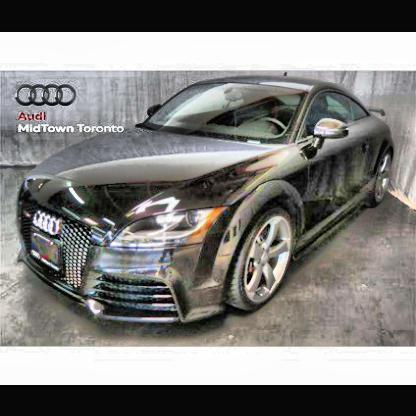Audi TTS Coupe 2012: (17, 72, 392, 326)
